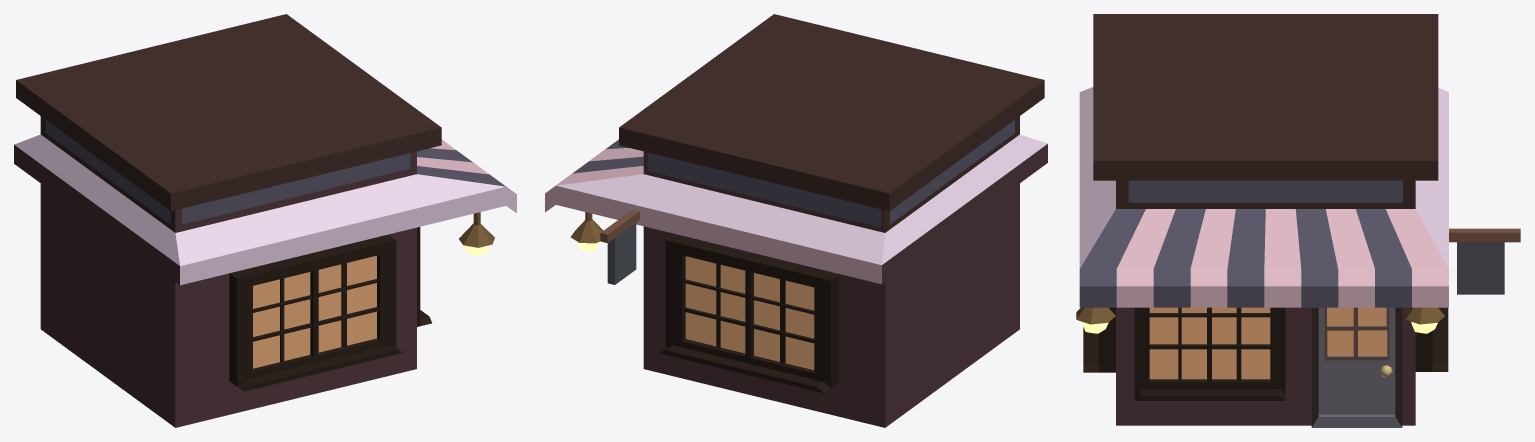
File: coffeeshop.glb
The picture shows the model from 3 angles, left to right: view 1: azimuth 30°, elevation 25°; view 2: azimuth 150°, elevation 25°; view 3: azimuth 270°, elevation 25°; orthographic projection. The views are drawn at different scales.
Visible parts, largest first — view 1: Cube; view 2: Cube; view 3: Cube.
Boxes of the visible parts, <box> form: Cube: <box>14,14,516,427</box>; Cube: <box>545,14,1047,427</box>; Cube: <box>1076,14,1520,427</box>.
Size of the model in its own units: 9.04 by 6.24 by 9.21.
